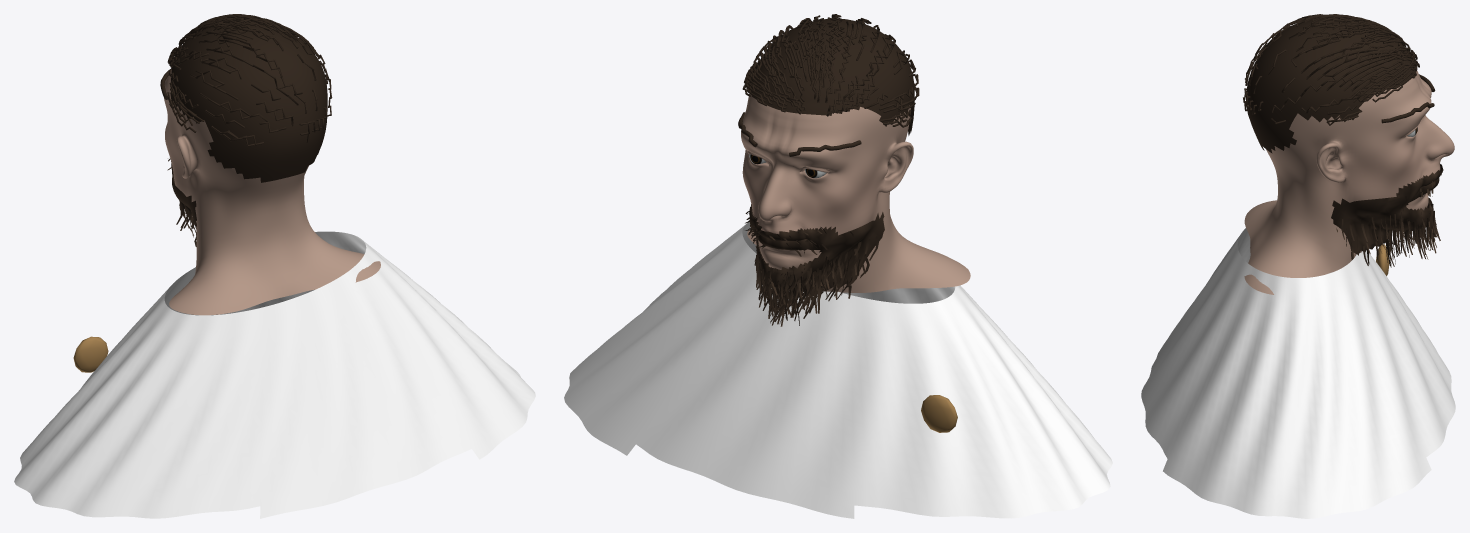
The model's file is envoy_072.glb.
3 renders of one model, left to right at view 1: azimuth 30°, elevation 25°; view 2: azimuth 150°, elevation 25°; view 3: azimuth 270°, elevation 25°, orthographic. The views are drawn at different scales.
Visible parts, largest first — view 1: Folded shoulder mantle, Envoy 072 body, Envoy 072 fitted scalp, Shoulder clasp; view 2: Folded shoulder mantle, Envoy 072 body, Envoy 072 fitted scalp, Hades beard hair shell, Hades beard hair cards, Shoulder clasp; view 3: Folded shoulder mantle, Envoy 072 body, Envoy 072 fitted scalp, Hades beard hair shell, Hades beard hair cards.
Part boxes in pixels (<box>): Folded shoulder mantle: <box>14,231,535,518</box>; Envoy 072 body: <box>164,69,380,315</box>; Envoy 072 fitted scalp: <box>170,21,327,182</box>; Shoulder clasp: <box>73,336,108,372</box>; Folded shoulder mantle: <box>564,222,1112,518</box>; Envoy 072 body: <box>741,94,970,292</box>; Envoy 072 fitted scalp: <box>749,18,914,135</box>; Hades beard hair shell: <box>749,204,884,291</box>; Hades beard hair cards: <box>745,211,878,326</box>; Shoulder clasp: <box>921,395,957,432</box>; Folded shoulder mantle: <box>1141,228,1455,518</box>; Envoy 072 body: <box>1244,70,1454,294</box>; Envoy 072 fitted scalp: <box>1246,18,1417,153</box>; Hades beard hair shell: <box>1331,164,1443,254</box>; Hades beard hair cards: <box>1335,164,1441,267</box>.
Size of the model in its own units: 0.3152 by 0.2464 by 0.1831.
